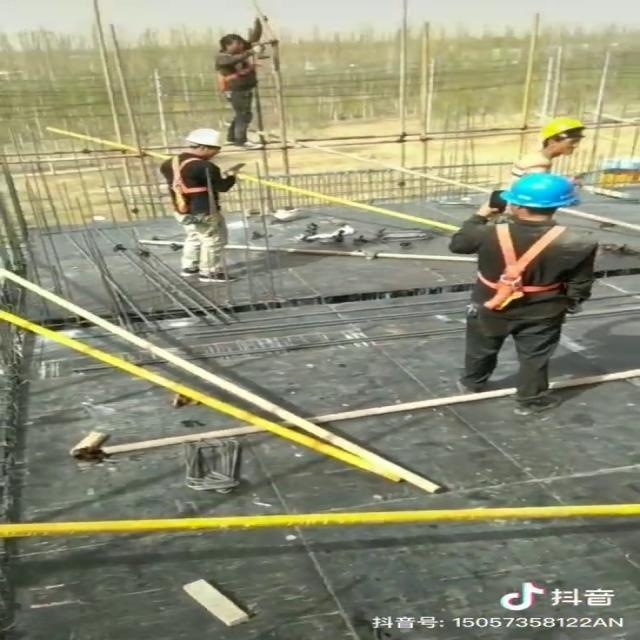Arnes_seguridad: (471, 220, 594, 316), (164, 155, 231, 217), (208, 51, 261, 95)
